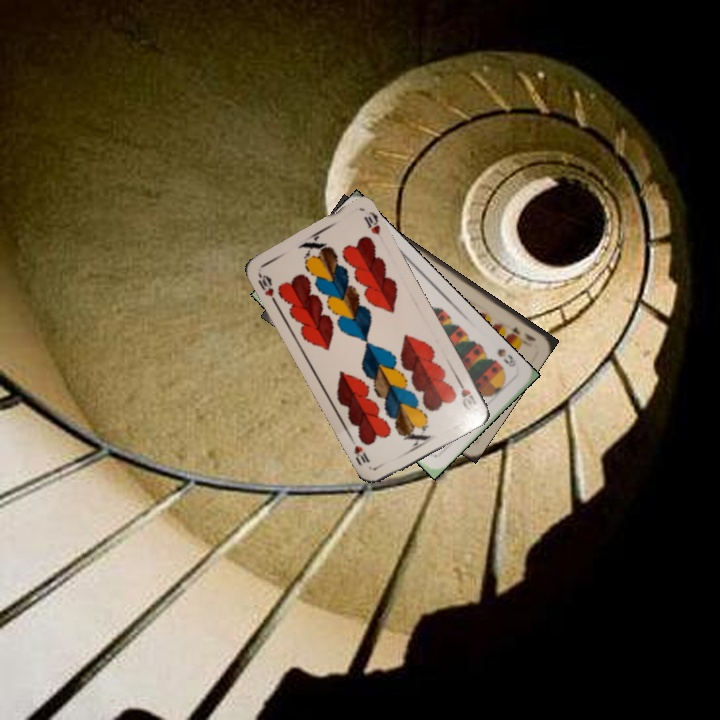E10: (507, 323, 538, 344)
H10: (254, 270, 280, 307), (453, 375, 479, 409)
S8: (493, 344, 519, 370)
